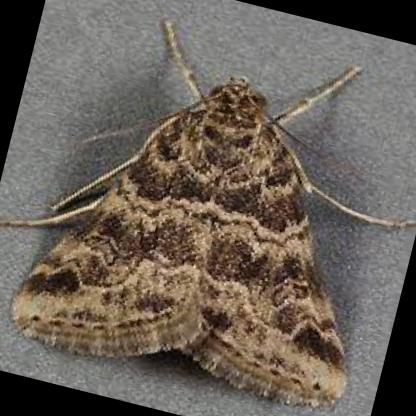Hellula undalis: (0, 15, 416, 408)
